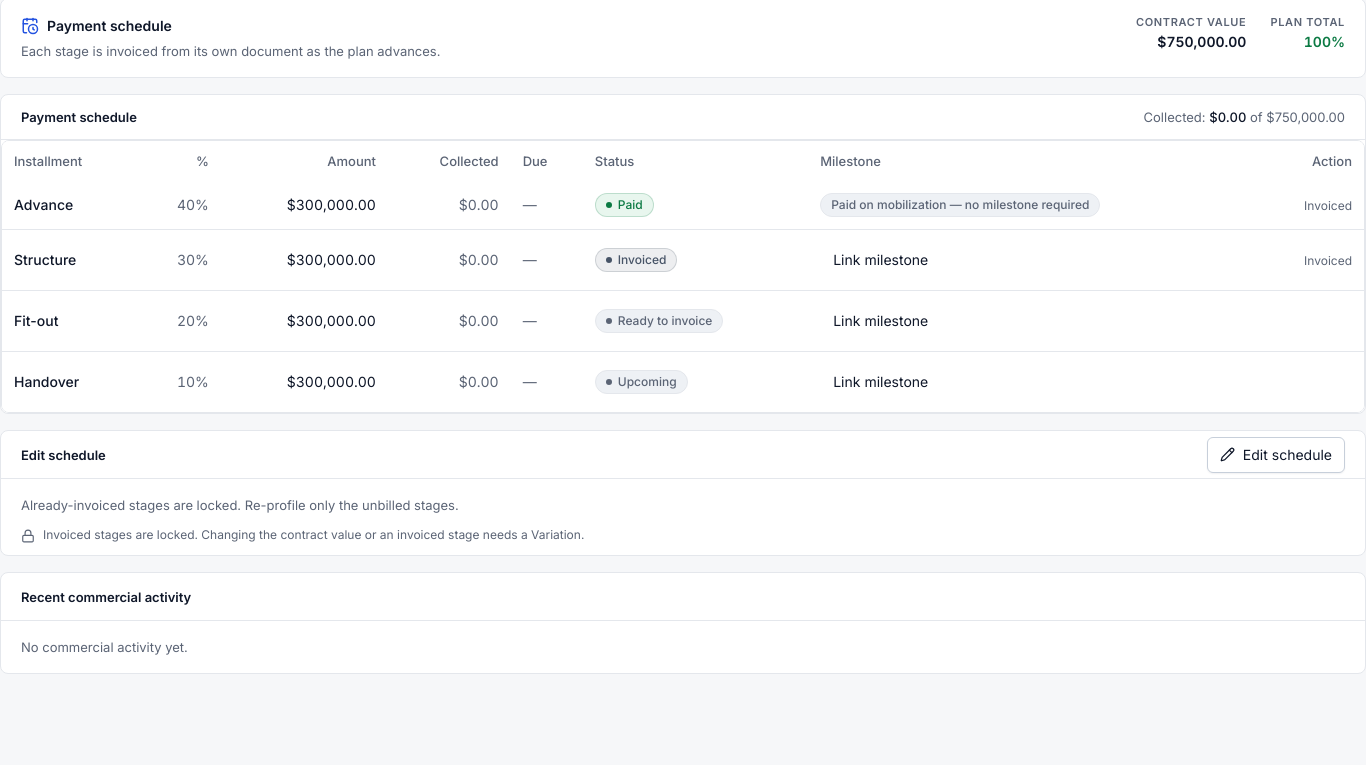
Test: PaymentScheduleTab — ACTIVE re-profile editor (Q-B) › requires the editable rows to total 100 − frozen% (30) and flags a mismatch against that target
Click the button "Edit schedule".
click(1276, 454)  # box [1207, 436, 1345, 472]
(page scrolled)
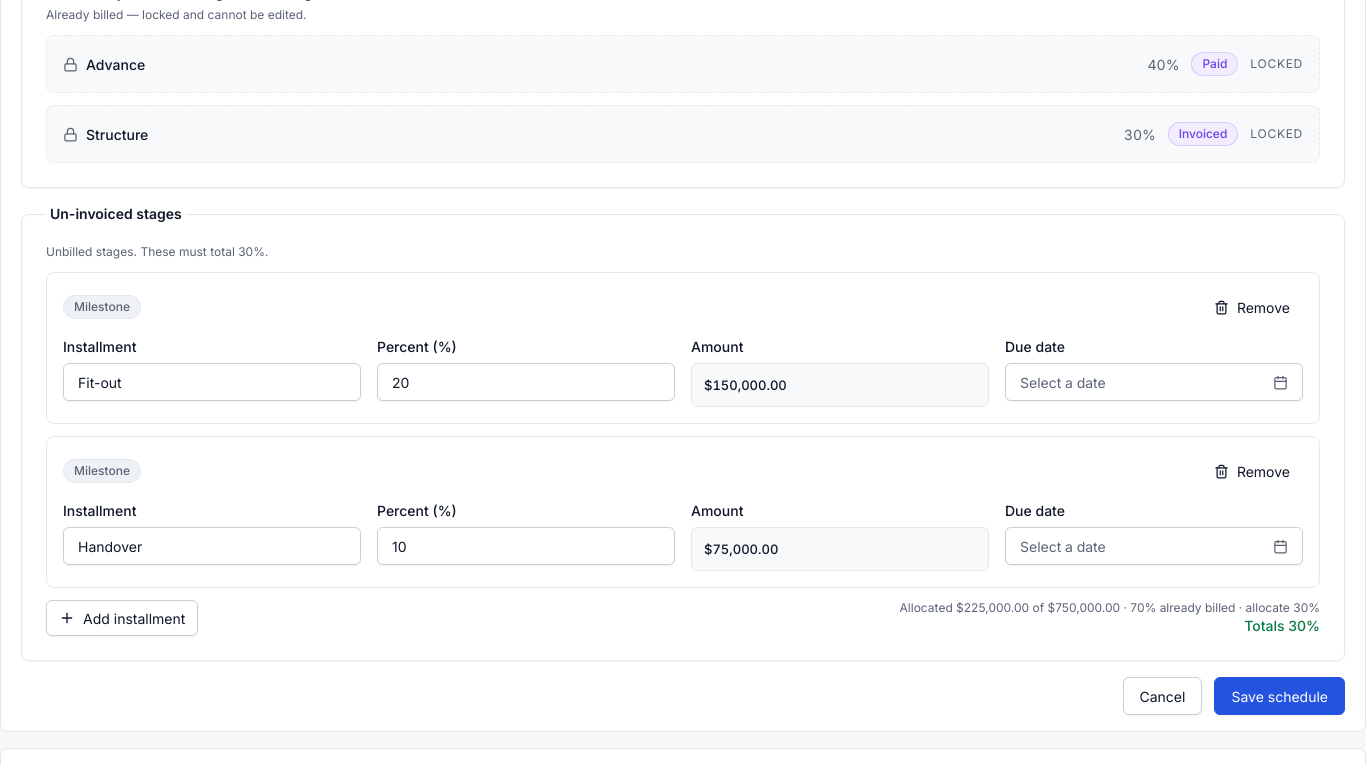
Now the text "Totals 30%" is shown, box [1244, 617, 1320, 634]
Replace the text in the field labelled "Percent (%)" next to "$150,000.00" with "25" at (526, 382), box [377, 363, 675, 401]
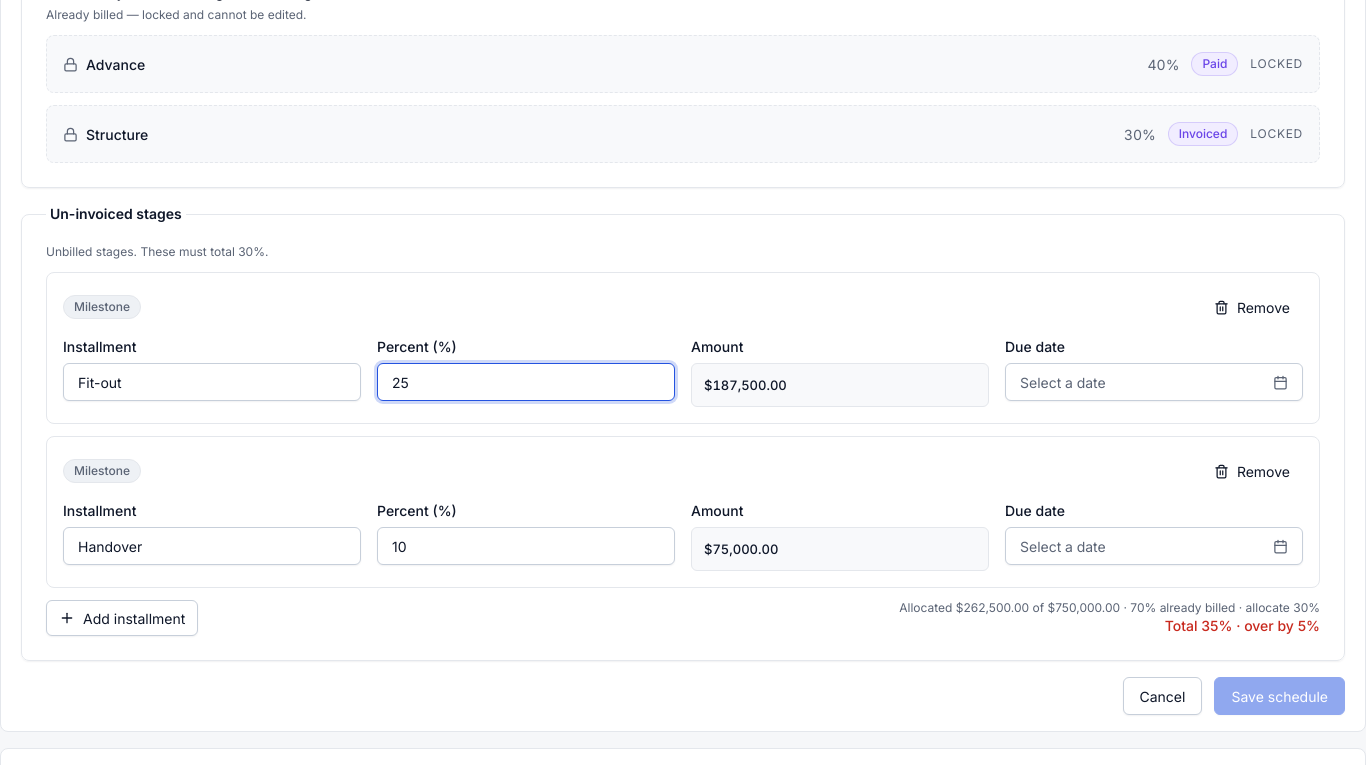
Now the text "Total 35% · over by 5%" is shown, box [1165, 617, 1320, 634]
